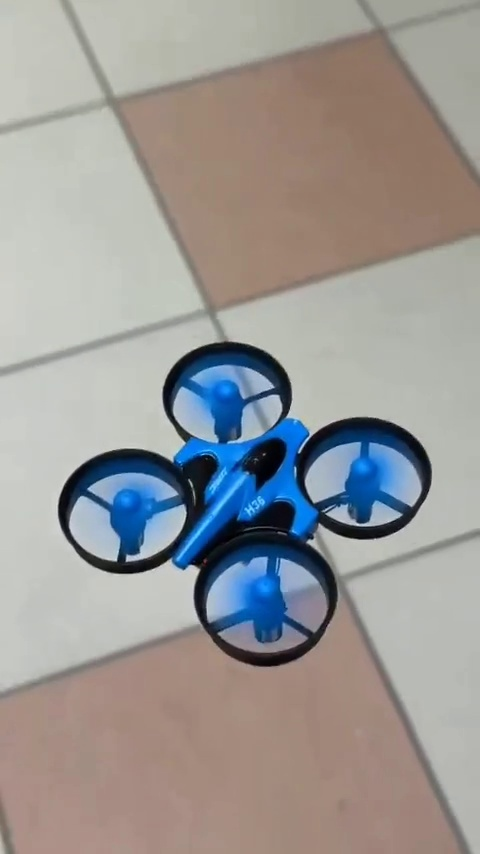drone: (50, 343, 432, 659)
